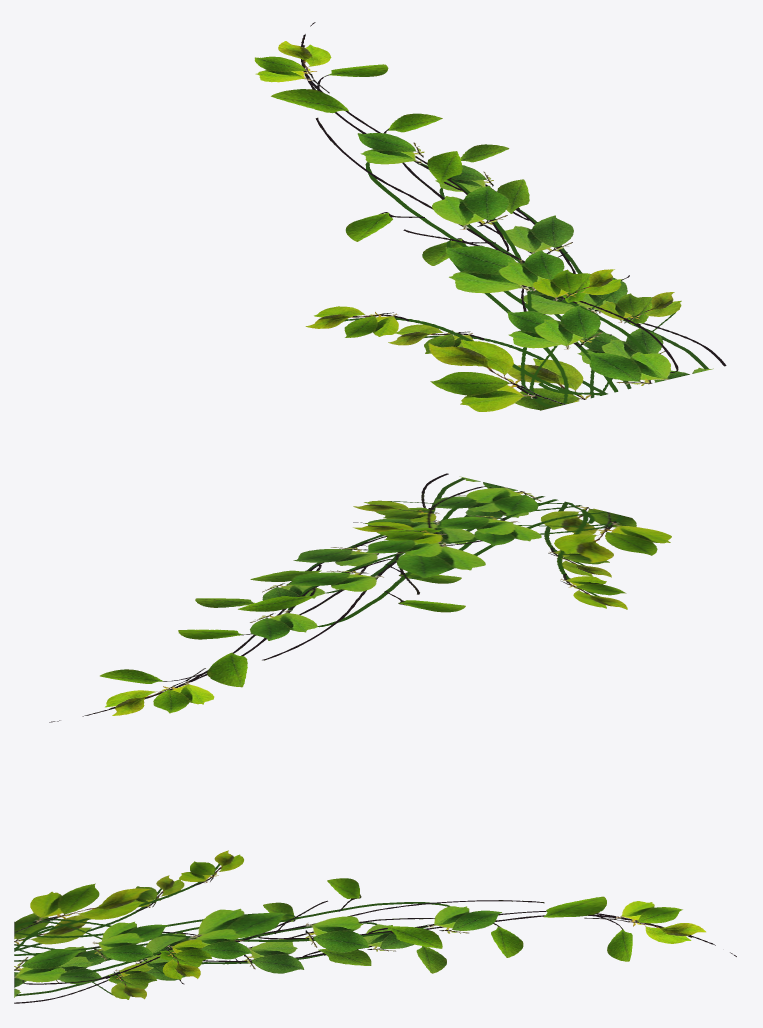
File: Creepers_001.fbx
3 renders of one model, top to bottom at view 1: azimuth 30°, elevation 25°; view 2: azimuth 150°, elevation 25°; view 3: azimuth 270°, elevation 25°, orthographic. The views are drawn at different scales.
Visible parts, largest first — view 1: Creepers.001; view 2: Creepers.001; view 3: Creepers.001.
Part boxes in pixels (x1,y1,x2,y2): Creepers.001: (254,22,726,411); Creepers.001: (49,473,671,722); Creepers.001: (14,850,736,1003).
Bounding box in the file's own units: 0.9196 × 0.1603 × 2.02.
